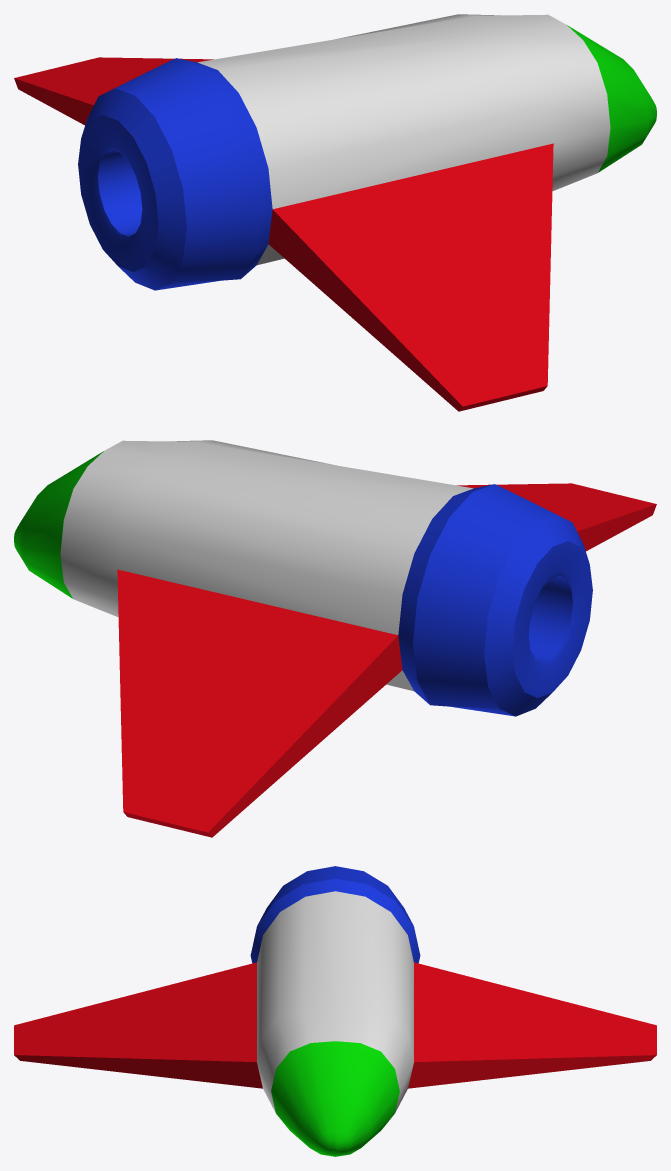
File: shipSolid.fbx
The picture shows the model from 3 angles, top to bottom: view 1: azimuth 30°, elevation 25°; view 2: azimuth 150°, elevation 25°; view 3: azimuth 270°, elevation 25°; orthographic projection. The views are drawn at different scales.
Parts seen in each view (by area): view 1: Cylinder; view 2: Cylinder; view 3: Cylinder.
Boxes of the visible parts, x1,y1,x2,y2 form: Cylinder: (14, 14, 656, 411); Cylinder: (14, 440, 656, 837); Cylinder: (14, 866, 656, 1156).
Size of the model in its own units: 563 by 202 by 821.
